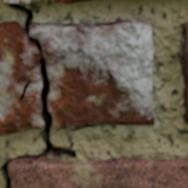brick: (9, 158, 187, 187), (179, 23, 187, 123), (2, 0, 37, 4), (49, 0, 87, 2)
broken_brick: (30, 18, 154, 131), (0, 20, 41, 136)
crack: (0, 2, 76, 187)
